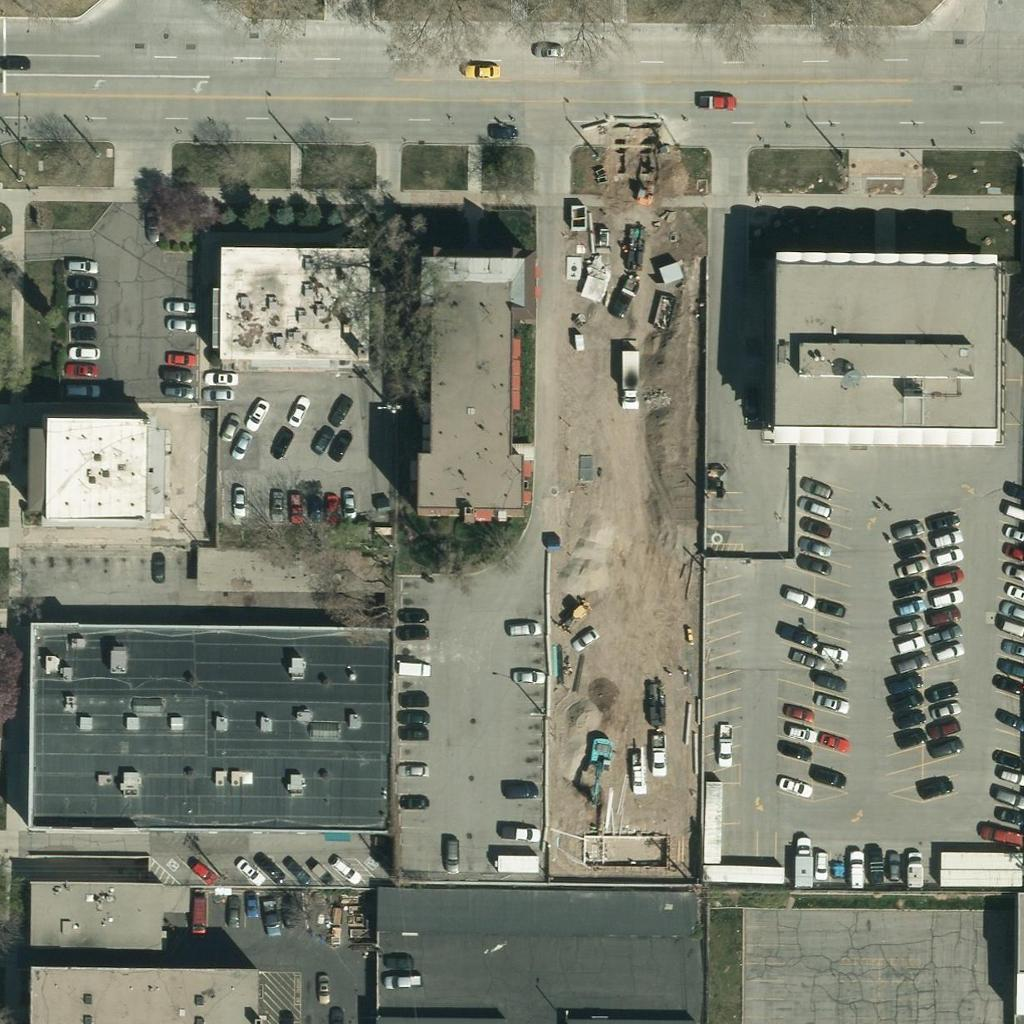car: (535, 34, 569, 68), (465, 54, 499, 88), (702, 83, 736, 117), (481, 114, 515, 148), (134, 205, 168, 239), (63, 247, 97, 281), (63, 248, 97, 282), (65, 265, 99, 299), (65, 281, 99, 315), (606, 282, 640, 316), (161, 287, 195, 321), (63, 298, 97, 332), (162, 305, 196, 339), (63, 315, 97, 349), (65, 334, 99, 368), (162, 340, 196, 374), (65, 351, 99, 385), (160, 356, 194, 390), (64, 373, 98, 407), (160, 374, 194, 408), (203, 377, 237, 411), (322, 390, 356, 424), (240, 395, 274, 429), (280, 395, 314, 429), (212, 411, 246, 445), (306, 420, 340, 454), (225, 425, 259, 459), (264, 425, 298, 459), (323, 427, 357, 461), (798, 471, 832, 505), (222, 483, 256, 517), (330, 486, 364, 520), (260, 489, 294, 523), (296, 489, 330, 523), (313, 490, 347, 524), (798, 490, 832, 524), (278, 494, 312, 528), (925, 502, 959, 536), (800, 511, 834, 545), (889, 512, 923, 546), (930, 520, 964, 554), (799, 530, 833, 564), (893, 530, 927, 564), (930, 539, 964, 573), (798, 548, 832, 582), (140, 550, 174, 584), (895, 550, 929, 584), (928, 558, 962, 592), (891, 570, 925, 604), (780, 580, 814, 614), (927, 580, 961, 614), (813, 589, 847, 623), (891, 591, 925, 625), (892, 591, 926, 625), (396, 597, 430, 631), (928, 597, 962, 631), (889, 610, 923, 644), (504, 611, 538, 645), (394, 614, 428, 648), (928, 617, 962, 651), (781, 619, 815, 653), (568, 621, 602, 655), (891, 626, 925, 660), (930, 635, 964, 669), (816, 636, 850, 670), (791, 642, 825, 676), (894, 645, 928, 679), (510, 659, 544, 693), (813, 664, 847, 698), (814, 665, 848, 699), (888, 666, 922, 700), (923, 676, 957, 710), (398, 681, 432, 715), (889, 681, 923, 715), (814, 684, 848, 718), (813, 686, 847, 720), (924, 693, 958, 727), (781, 695, 815, 729), (397, 698, 431, 732), (891, 700, 925, 734), (927, 712, 961, 746), (782, 714, 816, 748), (397, 715, 431, 749), (893, 718, 927, 752), (814, 722, 848, 756), (707, 730, 741, 764), (930, 731, 964, 765), (777, 733, 811, 767), (640, 737, 674, 771), (397, 753, 431, 787), (618, 757, 652, 791), (810, 759, 844, 793), (918, 770, 952, 804), (779, 771, 813, 805), (501, 772, 535, 806), (397, 784, 431, 818), (505, 817, 539, 851), (981, 817, 1015, 851), (434, 836, 468, 870), (803, 845, 837, 879), (860, 846, 894, 880), (876, 848, 910, 882), (839, 850, 873, 884), (279, 852, 313, 886), (328, 852, 362, 886), (185, 853, 219, 887), (231, 853, 265, 887), (253, 853, 287, 887), (302, 855, 336, 889), (233, 884, 267, 918), (216, 895, 250, 929), (255, 900, 289, 934), (379, 944, 413, 978), (385, 964, 419, 998), (304, 969, 338, 1003), (991, 741, 1024, 775), (992, 779, 1024, 813), (993, 665, 1024, 699), (0, 47, 28, 81), (996, 704, 1024, 738), (996, 798, 1024, 832), (997, 651, 1024, 685), (998, 759, 1024, 793), (1000, 593, 1024, 627), (1001, 632, 1024, 666), (1003, 536, 1024, 570), (1003, 555, 1024, 589), (1003, 611, 1024, 645), (1004, 517, 1024, 551), (1005, 475, 1024, 509), (1005, 497, 1024, 531), (1005, 578, 1024, 612)
